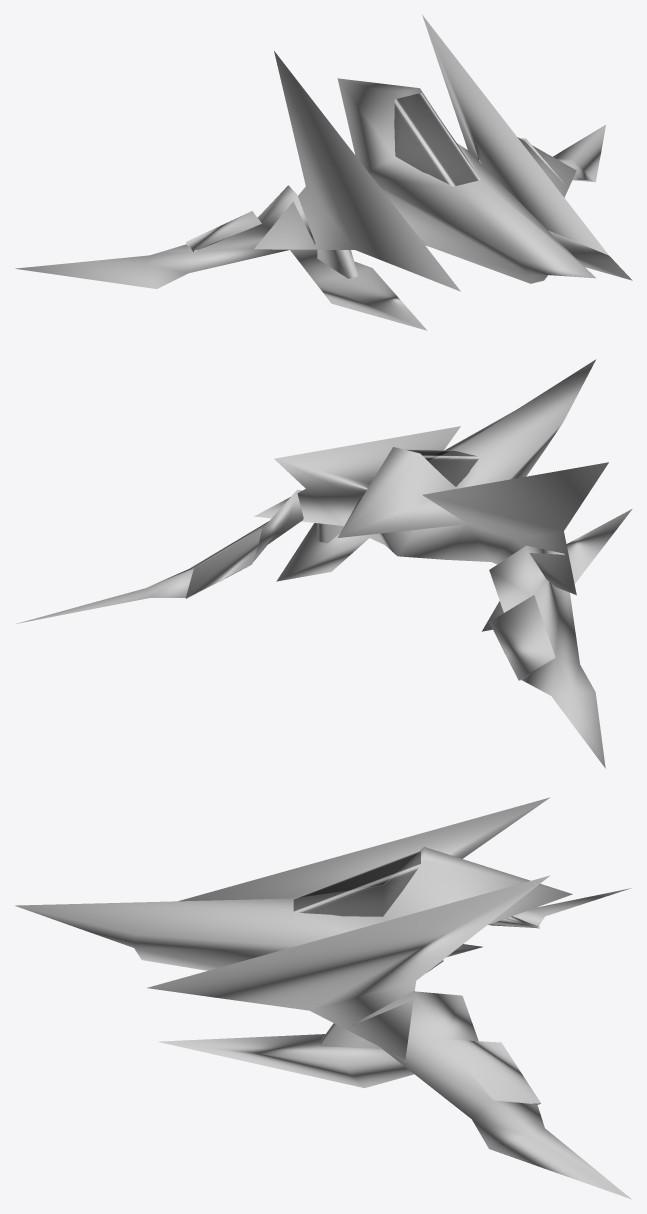
Rendered from arwingNew73.obj.
3 views of the same model, one above another, from view 1: azimuth 30°, elevation 25°; view 2: azimuth 150°, elevation 25°; view 3: azimuth 270°, elevation 25° (orthographic). The views are drawn at different scales.
Visible parts, largest first — view 1: Arwing.002; view 2: Arwing.002; view 3: Arwing.002.
Part boxes in pixels (x1,y1,x2,y2): Arwing.002: (15,14,632,330); Arwing.002: (16,359,632,768); Arwing.002: (15,797,631,1199).
Size of the model in its own units: 6.92 by 2.15 by 5.81.
